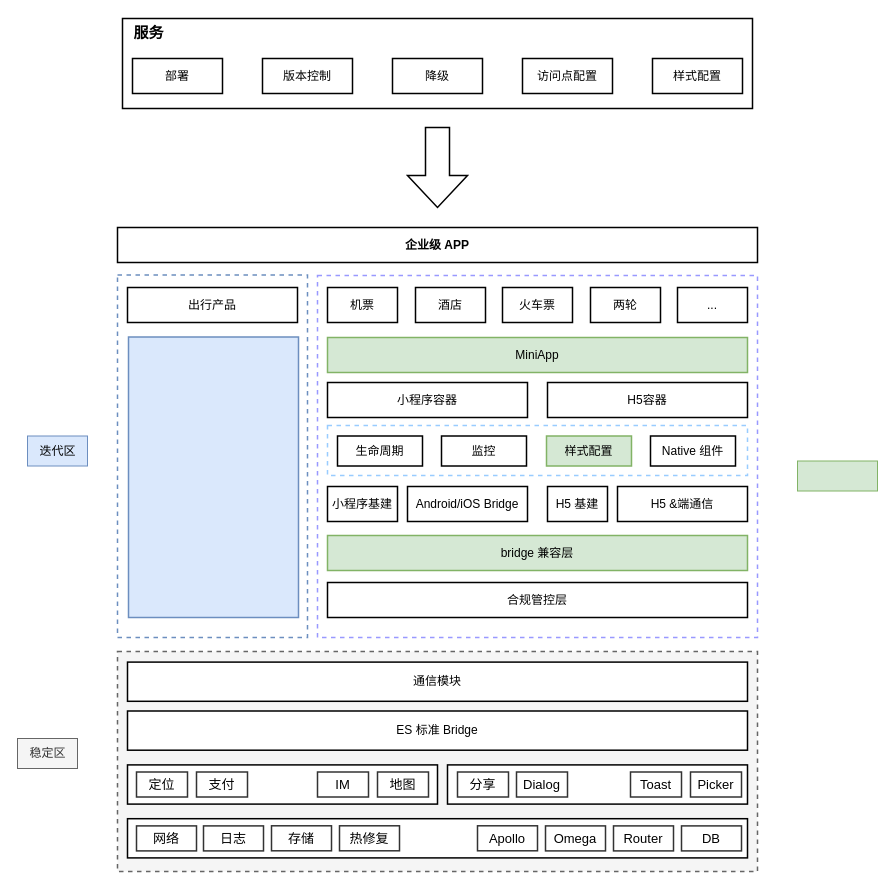
Image size: 895x889. Some labels were removed from this diagram. The box of each missing label's shape, as (x1, y1, x2, y2) in pixels:
业务组件: (126, 764, 438, 804)
公共 UI: (446, 764, 748, 804)
出行业务: (127, 336, 299, 618)
动态发布区: (796, 460, 878, 491)
基础能力层: (126, 818, 748, 858)
